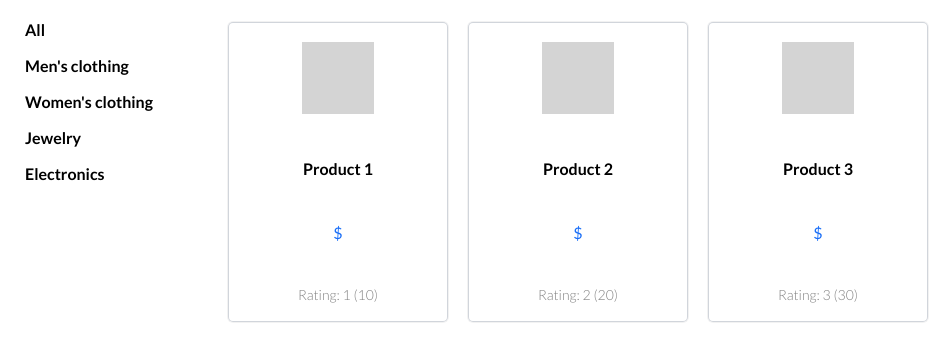
Scenario: Shop component › filters products by category
Click the button "Men's clothing".
click(89, 66)  # box [10,48,168,84]
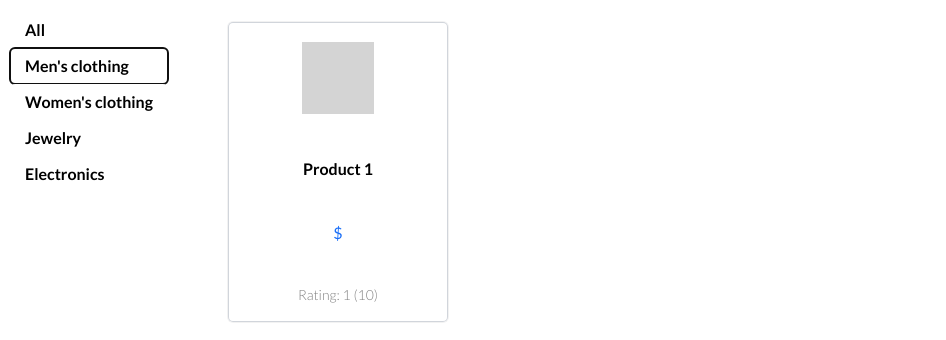
Expected: the text "Product 1" is shown, [303,161,373,177]
Result: the link "Product 2" is gone
Result: the link "Product 3" is gone
Click the button "Women's clothing".
click(89, 102)  # box [10,84,168,120]
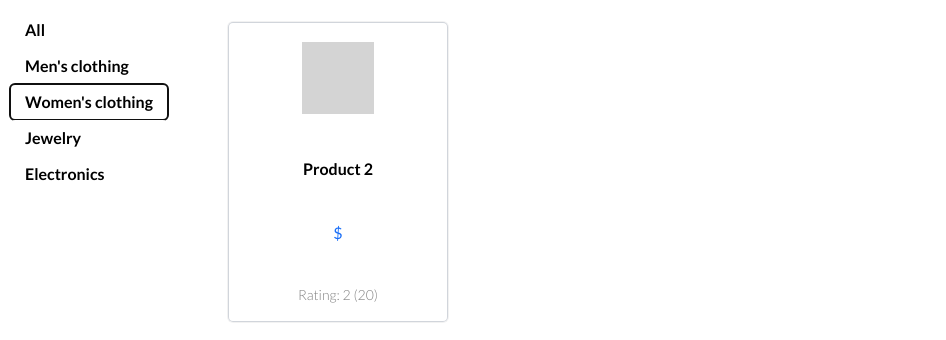
Expected: the link "Product 3" is not shown
Result: the text "Product 2" is shown at [303,161,373,177]
Result: the link "Product 1" is gone
Click the button "All".
click(89, 30)  # box [10,12,168,48]
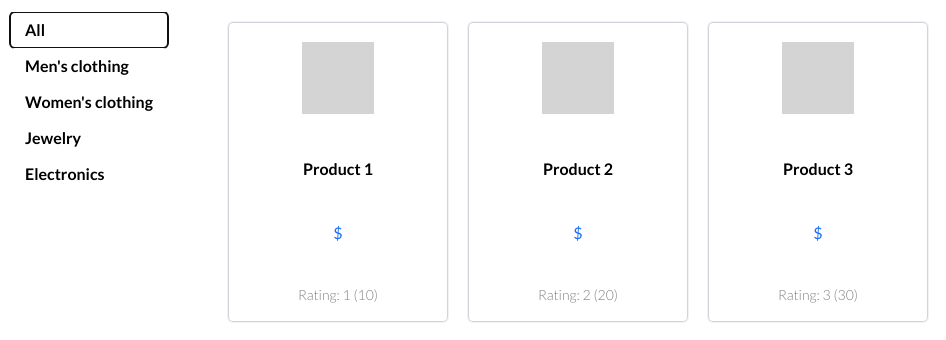
Result: the text "Product 2" is shown at [543,161,613,177]
Result: the text "Product 1" is shown at [303,161,373,177]
Result: the text "Product 3" is shown at [783,161,853,177]
